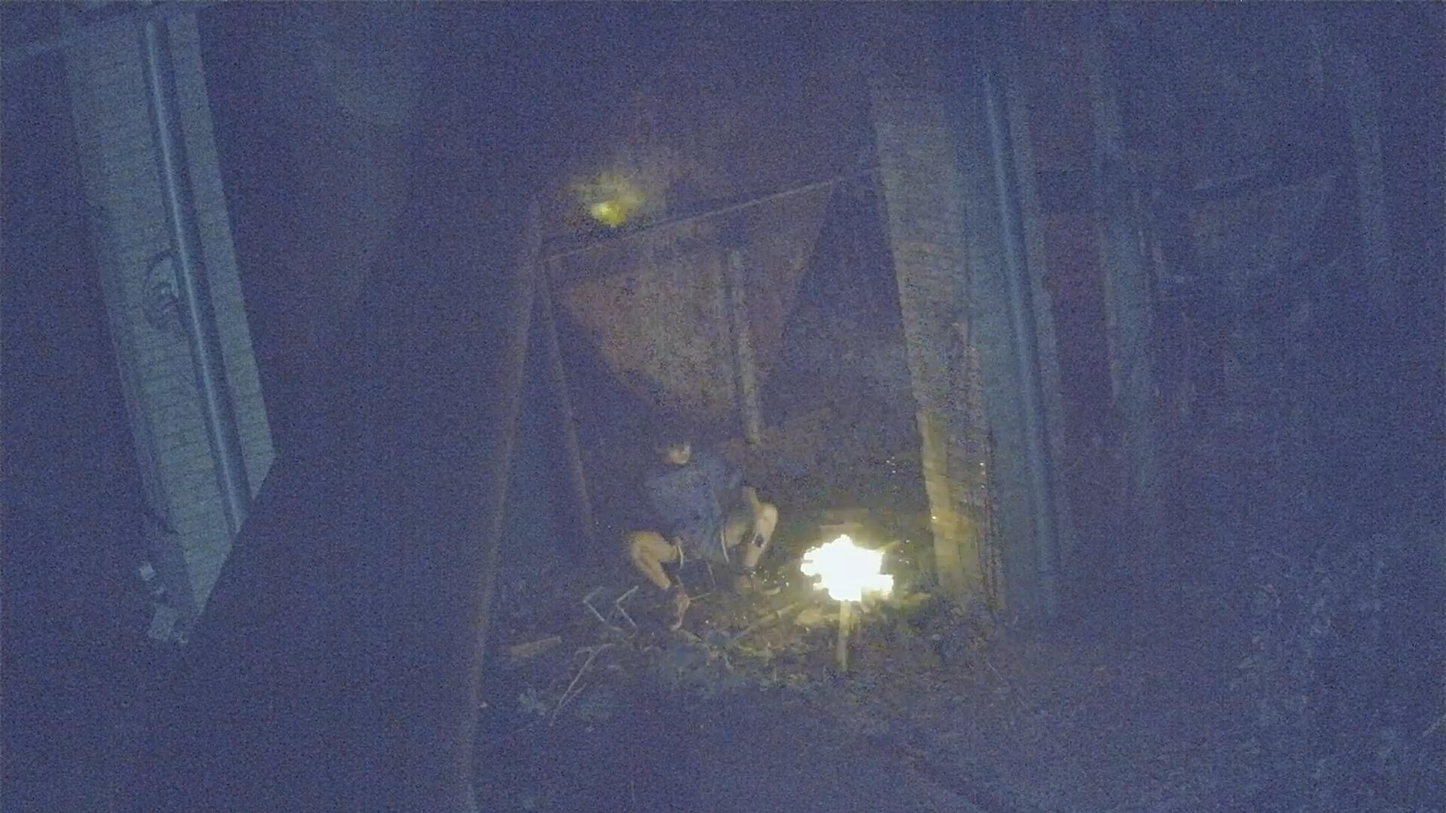fire: (812, 537, 910, 605)
